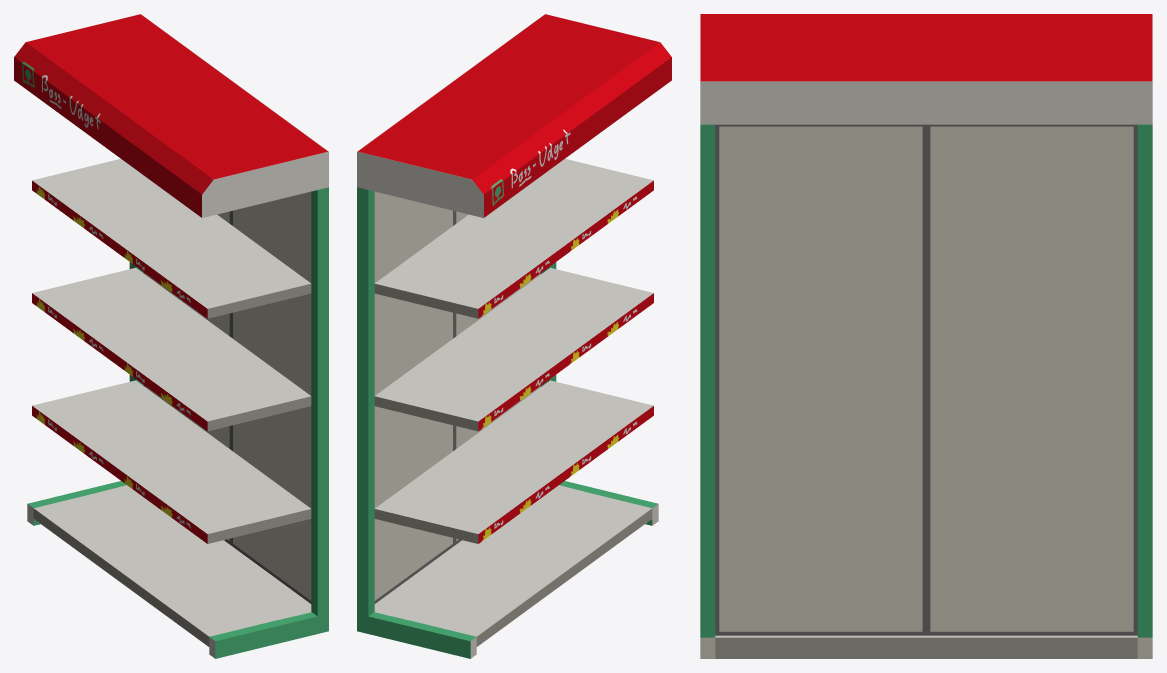
The model's file is shelf.glb.
3 renders of one model, left to right at view 1: azimuth 30°, elevation 25°; view 2: azimuth 150°, elevation 25°; view 3: azimuth 270°, elevation 25°, orthographic. The views are drawn at different scales.
Parts seen in each view (by area): view 1: frame, shelf thingies, backplate; view 2: frame, shelf thingies, backplate; view 3: backplate, frame.
Part boxes in pixels (box(x1,y1,x2,y2)): frame: box(14, 14, 328, 658); shelf thingies: box(32, 159, 311, 543); backplate: box(143, 191, 311, 603); frame: box(357, 14, 671, 658); shelf thingies: box(374, 159, 653, 543); backplate: box(374, 191, 542, 603); backplate: box(715, 124, 1137, 635); frame: box(700, 14, 1152, 658).
Bounding box in the file's own units: 0.4453 × 1.61 × 1.14.
1 material, 1 textured.
